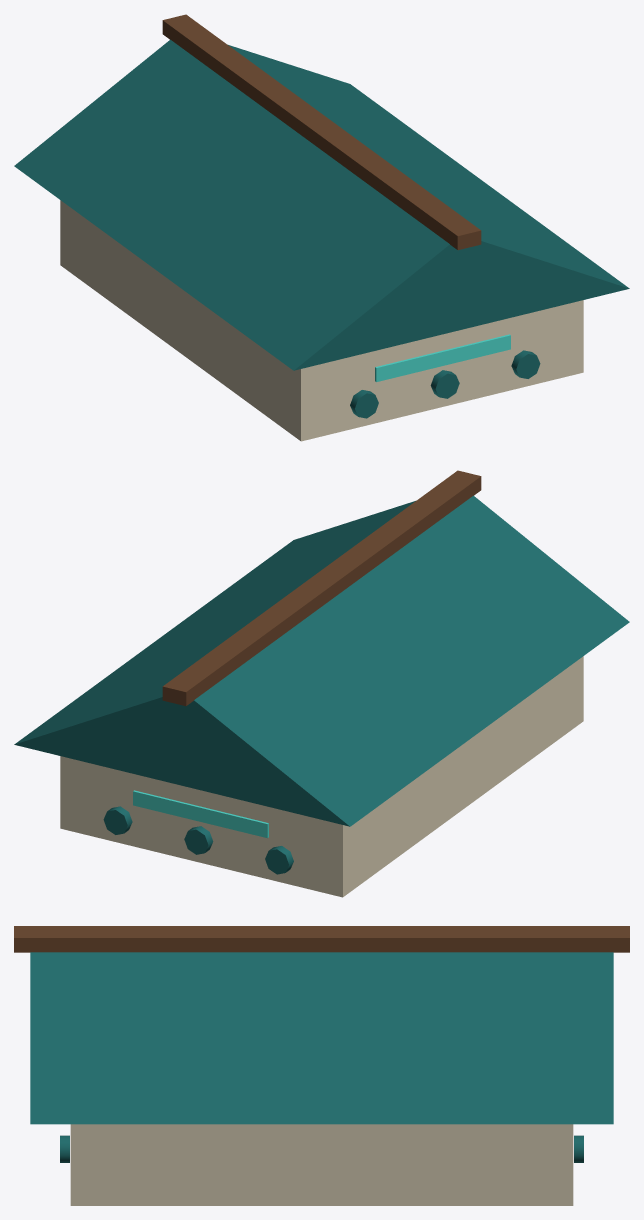
Rendered from k1_memory.obj.
3 renders of one model, top to bottom at view 1: azimuth 30°, elevation 25°; view 2: azimuth 150°, elevation 25°; view 3: azimuth 270°, elevation 25°, orthographic. The views are drawn at different scales.
Parts seen in each view (by area): view 1: k1_memory; view 2: k1_memory; view 3: k1_memory.
Part boxes in pixels (x1,y1,x2,y2): k1_memory: (14, 14, 629, 441); k1_memory: (14, 470, 629, 897); k1_memory: (14, 926, 629, 1205).
Size of the model in its own units: 0.5 by 0.275 by 0.76.
